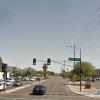Traffic light: (31, 52, 52, 73)
